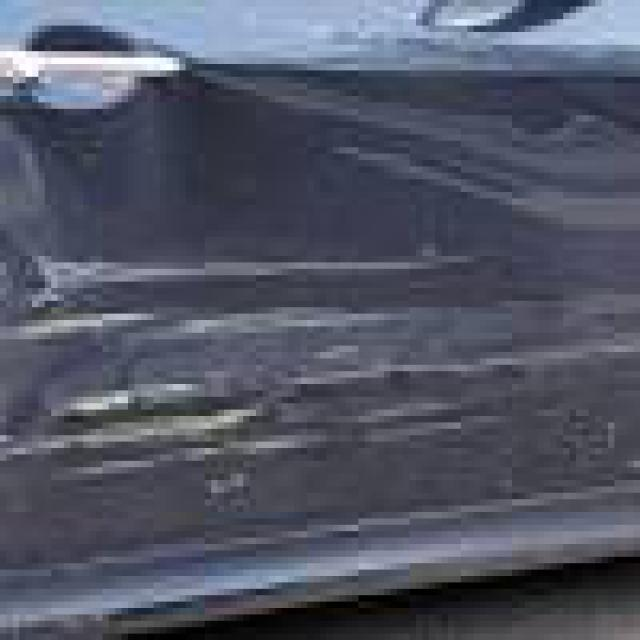doorouter-dent: (1, 1, 635, 577)
